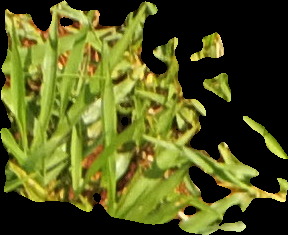grass: (1, 1, 287, 233)
